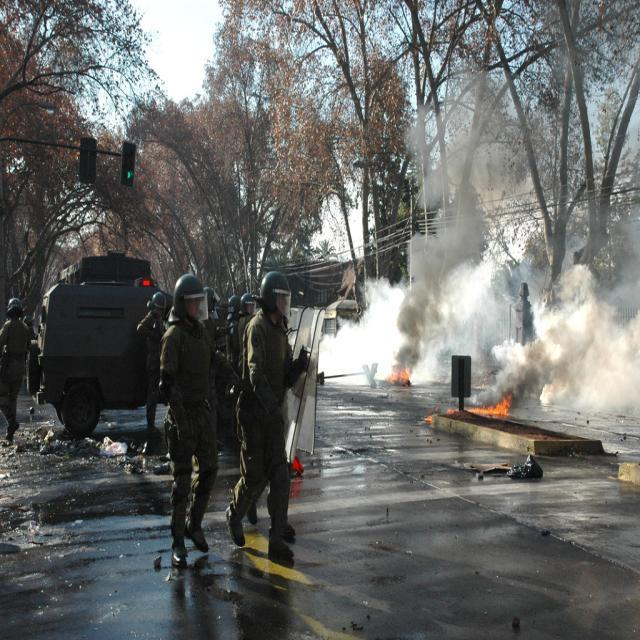Fire: (462, 401, 514, 418), (386, 366, 416, 386)
Smoke: (551, 318, 598, 398), (423, 242, 449, 322), (434, 329, 440, 334)
